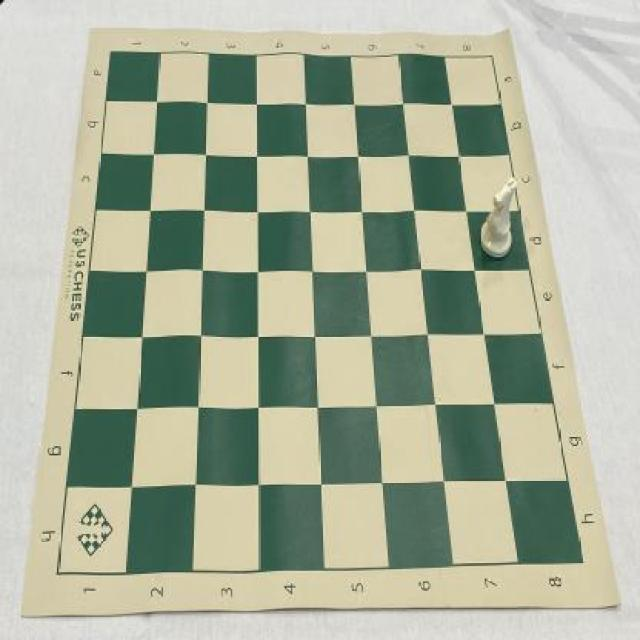white-king: (478, 177, 518, 261)
